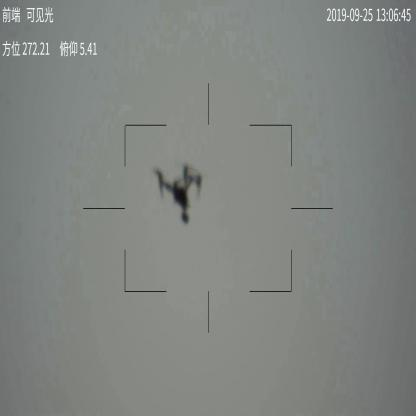uav: (152, 154, 206, 224)
